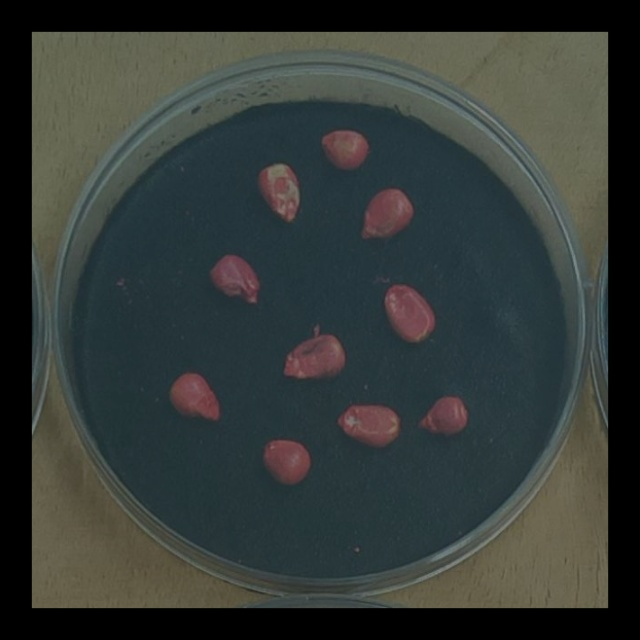Zea mays: (377, 278, 441, 350), (275, 327, 351, 387), (329, 396, 406, 455), (353, 183, 419, 247), (203, 247, 265, 310), (251, 156, 305, 228), (164, 366, 225, 429), (255, 433, 317, 492), (411, 390, 473, 442), (315, 123, 374, 175)
